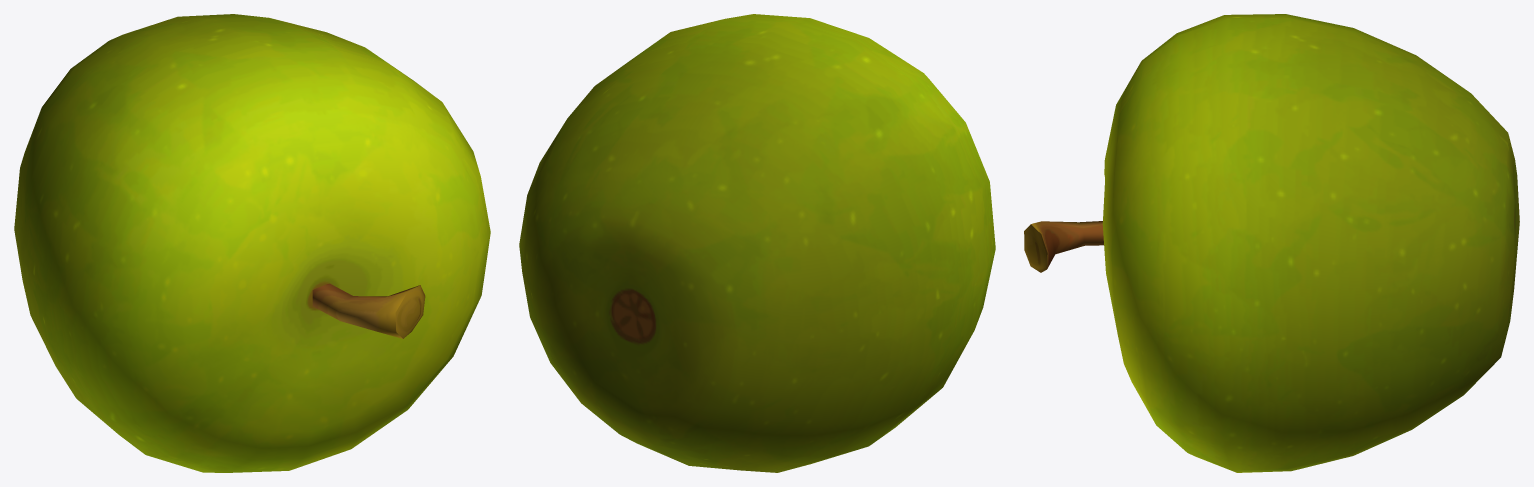
Rendered from applegreen.glb.
3 views of the same model, side by side, from view 1: azimuth 30°, elevation 25°; view 2: azimuth 150°, elevation 25°; view 3: azimuth 270°, elevation 25° (orthographic). The views are drawn at different scales.
Visible parts, largest first — view 1: SM_AppleGreen; view 2: SM_AppleGreen; view 3: SM_AppleGreen.
Part boxes in pixels (box(x1,y1,x2,y2)): SM_AppleGreen: box(14, 14, 490, 472); SM_AppleGreen: box(519, 14, 995, 472); SM_AppleGreen: box(1024, 14, 1519, 472).
Size of the model in its own units: 0.1306 by 0.1274 by 0.141.
1 material, 1 textured.
